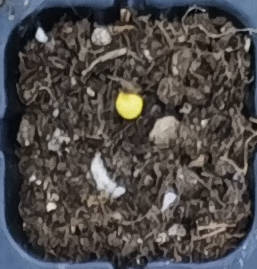pepper seed: (43, 29, 187, 150)
